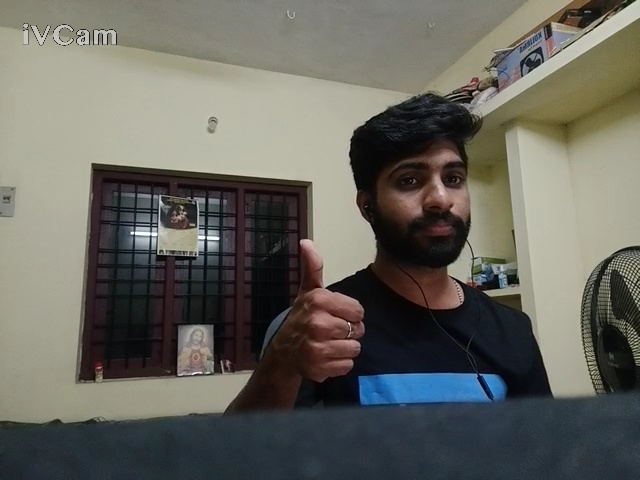Yes: (244, 226, 413, 395)
